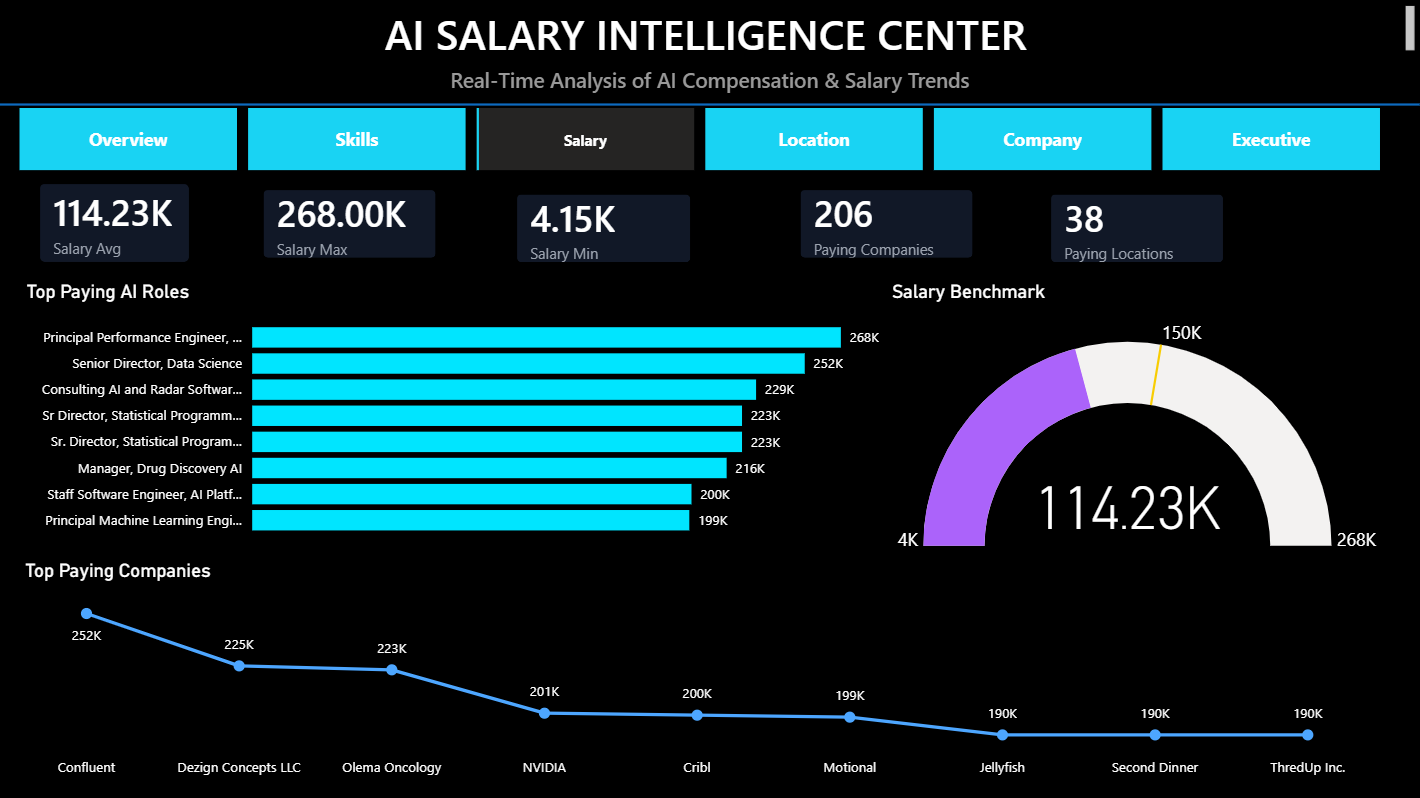

This screenshot's page, from the dashboard's own definition file:
{"tool":"powerbi","page":{"name":"Salary","canvas":[1280,720],"ordinal":2},"visuals":[{"type":"textbox","box":[0,0,1279.5,54.5],"z":0},{"type":"textbox","box":[0,54.5,1279.5,36.3],"z":1000},{"type":"shape","box":[0,92.4,1279.5,4.5],"z":2000},{"type":"cardVisual","fields":{"Data":["final_job_list.Salary Avg"]},"box":[19.2,149.3,168.5,104.1],"z":3000},{"type":"cardVisual","fields":{"Data":["final_job_list.Salary Max"]},"box":[220.6,153.4,189.1,95.9],"z":4000},{"type":"cardVisual","fields":{"Data":["final_job_list.Salary Min"]},"box":[449.3,157.5,190.4,95.9],"z":5000},{"type":"cardVisual","fields":{"Data":["final_job_list.Paying Companies"]},"box":[704.2,153.4,189.1,95.9],"z":6000},{"type":"cardVisual","fields":{"Data":["final_job_list.Paying Locations"]},"box":[930.2,157.5,189.1,95.9],"z":7000},{"type":"barChart","title":"Top Paying AI Roles","fields":{"Category":["final_job_list.Job Title"],"Y":["Avg(final_job_list.Salary)"]},"box":[19.2,253.4,779.5,239.7],"z":8000},{"type":"lineChart","title":"Top Paying Companies","fields":{"Category":["final_job_list.Company"],"Y":["Avg(final_job_list.Salary)"]},"box":[17.8,504.1,1220.6,205.5],"z":9000},{"type":"gauge","title":"Salary Benchmark","fields":{"Y":["final_job_list.Avg Salary"],"MinValue":["final_job_list.Salary Min"],"MaxValue":["final_job_list.Salary Max"],"TargetValue":["final_job_list.Salary_Target"]},"box":[798.7,253.4,450.7,250.7],"z":10000},{"type":"pageNavigator","box":[17.8,97.3,1230.2,56.2],"z":11000}]}

Visuals, with their boxes in screenshot pixels (x1, y1, x2, y2), scaled from the page's 1280x720 canvas onto the 1420x798 screenshot:
textbox: Rect(0, 0, 1419, 60)
textbox: Rect(0, 60, 1419, 101)
shape: Rect(0, 102, 1419, 107)
cardVisual - final_job_list.Salary Avg: Rect(21, 165, 208, 281)
cardVisual - final_job_list.Salary Max: Rect(245, 170, 455, 276)
cardVisual - final_job_list.Salary Min: Rect(498, 175, 710, 281)
cardVisual - final_job_list.Paying Companies: Rect(781, 170, 991, 276)
cardVisual - final_job_list.Paying Locations: Rect(1032, 175, 1242, 281)
"Top Paying AI Roles" barChart: Rect(21, 281, 886, 547)
"Top Paying Companies" lineChart: Rect(20, 559, 1374, 786)
"Salary Benchmark" gauge: Rect(886, 281, 1386, 559)
pageNavigator: Rect(20, 108, 1384, 170)
